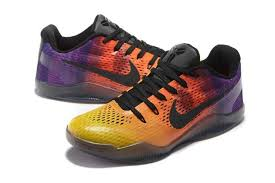nike: (65, 59, 140, 87), (169, 94, 225, 129)
